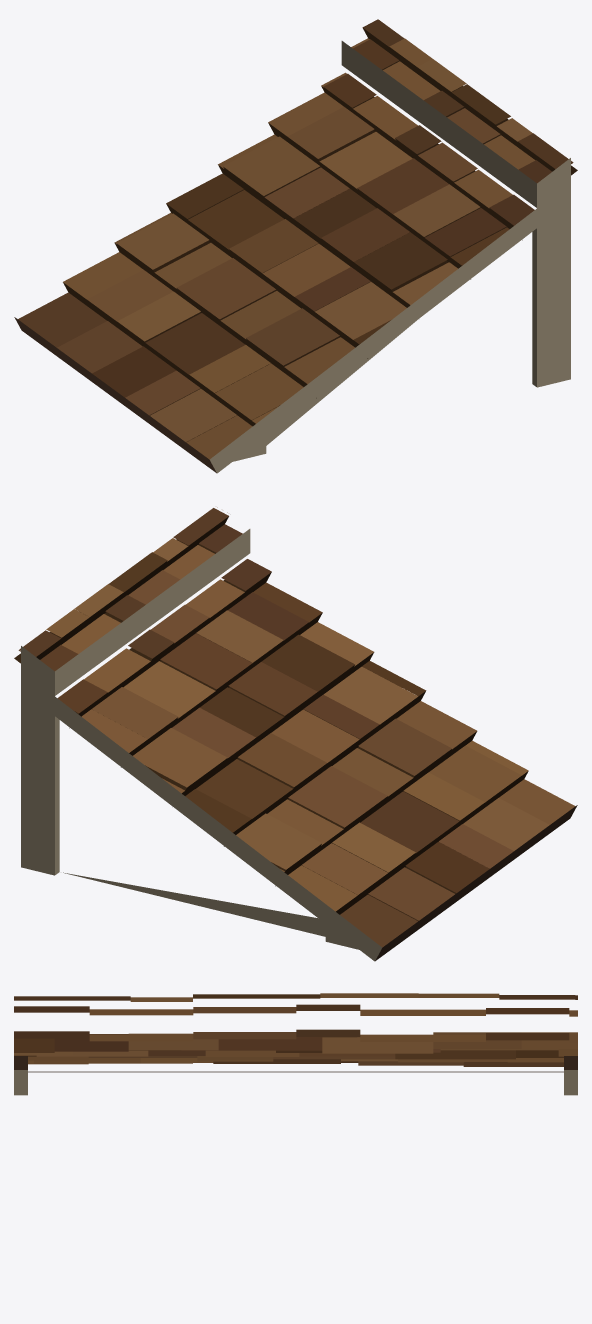
File: roof-wood.glb
The picture shows the model from 3 angles, top to bottom: view 1: azimuth 30°, elevation 25°; view 2: azimuth 150°, elevation 25°; view 3: azimuth 270°, elevation 25°; orthographic projection. The views are drawn at different scales.
Parts seen in each view (by area): view 1: roof-wood; view 2: roof-wood; view 3: roof-wood.
Boxes of the visible parts, x1,y1,x2,y2 form: roof-wood: (14, 19, 577, 473); roof-wood: (14, 507, 577, 961); roof-wood: (14, 993, 577, 1095).
Size of the model in its own units: 1.09 by 0.6483 by 1.
